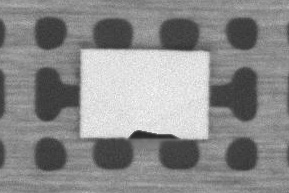DIE_BROKEN: (122, 128, 182, 139)
